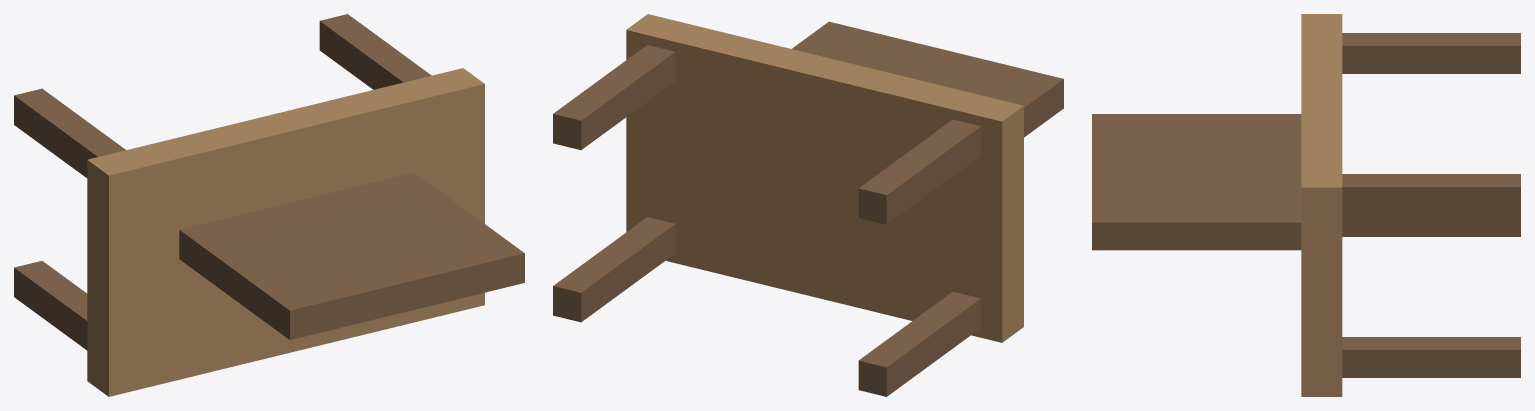
Rendered from 05_loom_station.glb.
3 renders of one model, left to right at view 1: azimuth 30°, elevation 25°; view 2: azimuth 150°, elevation 25°; view 3: azimuth 270°, elevation 25°, orthographic. The views are drawn at different scales.
Parts seen in each view (by area): view 1: table_top, loom_frame, leg_3, leg_4, leg_1; view 2: table_top, loom_frame, leg_2, leg_3, leg_4, leg_1; view 3: loom_frame, table_top, leg_2, leg_3, leg_4, leg_1.
Part boxes in pixels (x1,y1,x2,y2): table_top: [87, 68, 484, 396]; loom_frame: [179, 172, 524, 339]; leg_3: [14, 88, 125, 177]; leg_4: [319, 14, 431, 89]; leg_1: [14, 261, 87, 350]; table_top: [626, 14, 1023, 342]; loom_frame: [792, 21, 1063, 137]; leg_2: [553, 217, 675, 322]; leg_3: [858, 119, 980, 224]; leg_4: [553, 45, 675, 149]; leg_1: [858, 291, 980, 396]; loom_frame: [1092, 114, 1301, 250]; table_top: [1301, 14, 1342, 396]; leg_2: [1342, 337, 1520, 377]; leg_3: [1342, 33, 1520, 73]; leg_4: [1342, 174, 1520, 214]; leg_1: [1342, 215, 1520, 236].
Size of the model in its own units: 1.6 by 0.9 by 1.67.
